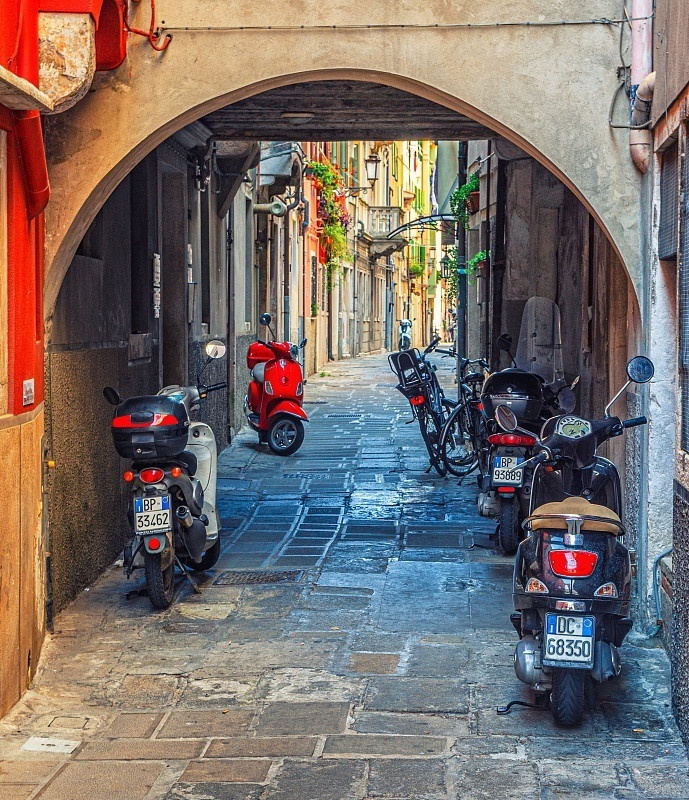non-vehicle: (500, 387, 640, 729), (99, 375, 224, 600), (469, 357, 558, 554), (382, 347, 455, 466), (242, 322, 306, 452)
